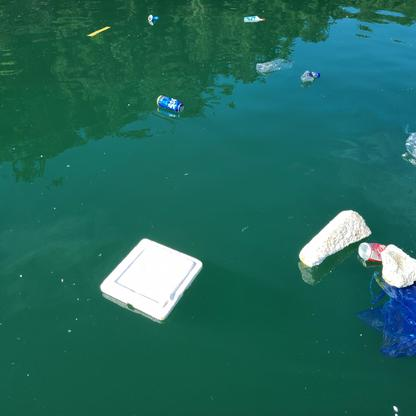can: (359, 241, 387, 262), (157, 94, 184, 111), (145, 13, 162, 22)
foam: (99, 238, 203, 323), (295, 208, 371, 267), (383, 245, 416, 286)
plastic bag: (362, 275, 416, 357)
plastic bottle: (254, 56, 294, 74), (300, 68, 321, 82)
